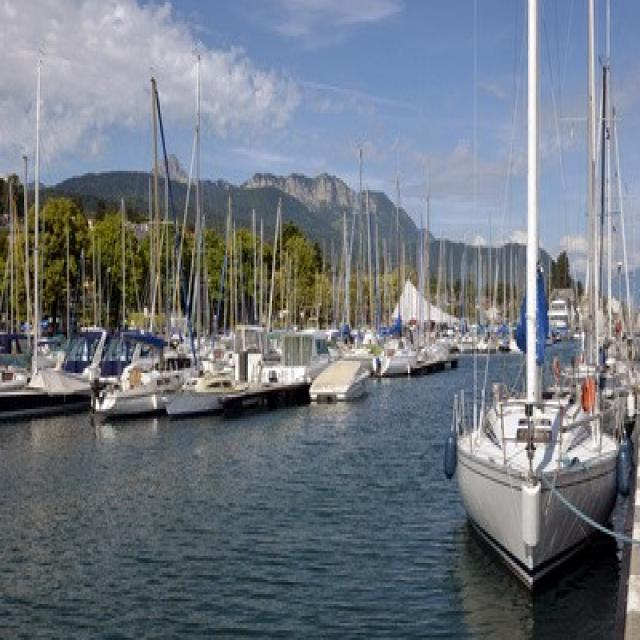fishing boat: (454, 346, 622, 592)
